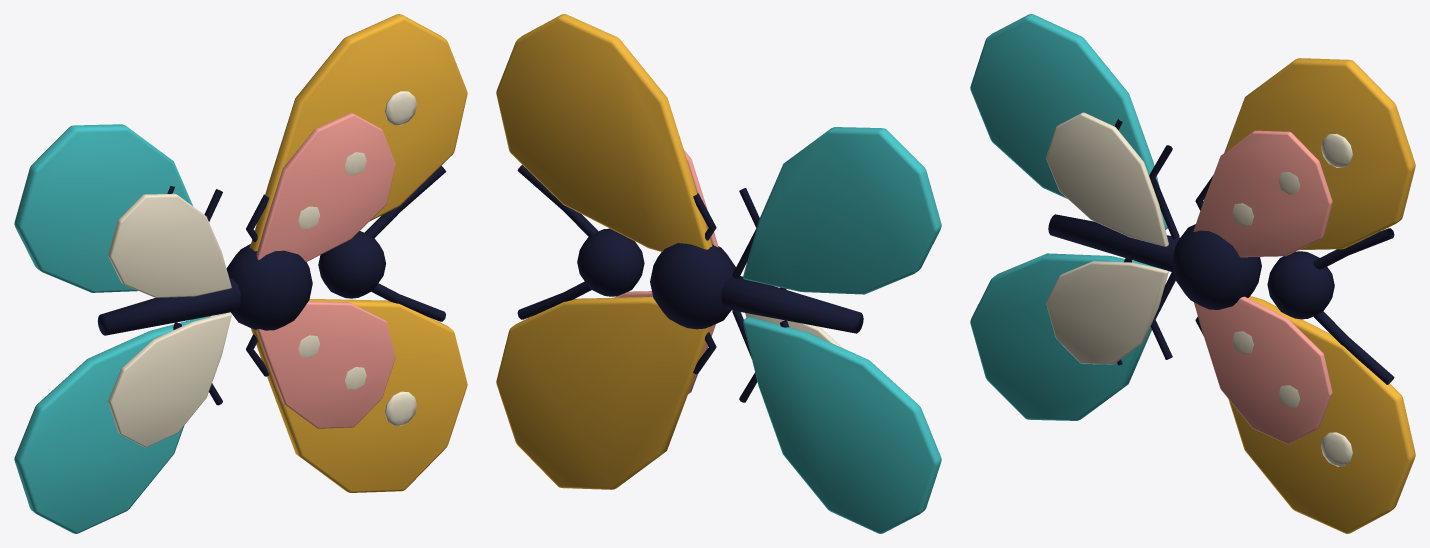
Rendered from r048_butterfly_world_butterfly_environment_family_butterfly_04.glb.
3 views of the same model, side by side, from view 1: azimuth 30°, elevation 25°; view 2: azimuth 150°, elevation 25°; view 3: azimuth 330°, elevation 25° (orthographic).
Visible parts, largest first — view 1: r048_butterfly_world_butterfly_environment_family_butterfly_; view 2: r048_butterfly_world_butterfly_environment_family_butterfly_; view 3: r048_butterfly_world_butterfly_environment_family_butterfly_.
Boxes of the visible parts, box(x1,y1,x2,y2) form: r048_butterfly_world_butterfly_environment_family_butterfly_: box(14, 14, 467, 533); r048_butterfly_world_butterfly_environment_family_butterfly_: box(496, 14, 941, 533); r048_butterfly_world_butterfly_environment_family_butterfly_: box(970, 14, 1415, 533).
Bounding box in the file's own units: 3.26 × 3.31 × 0.5.
